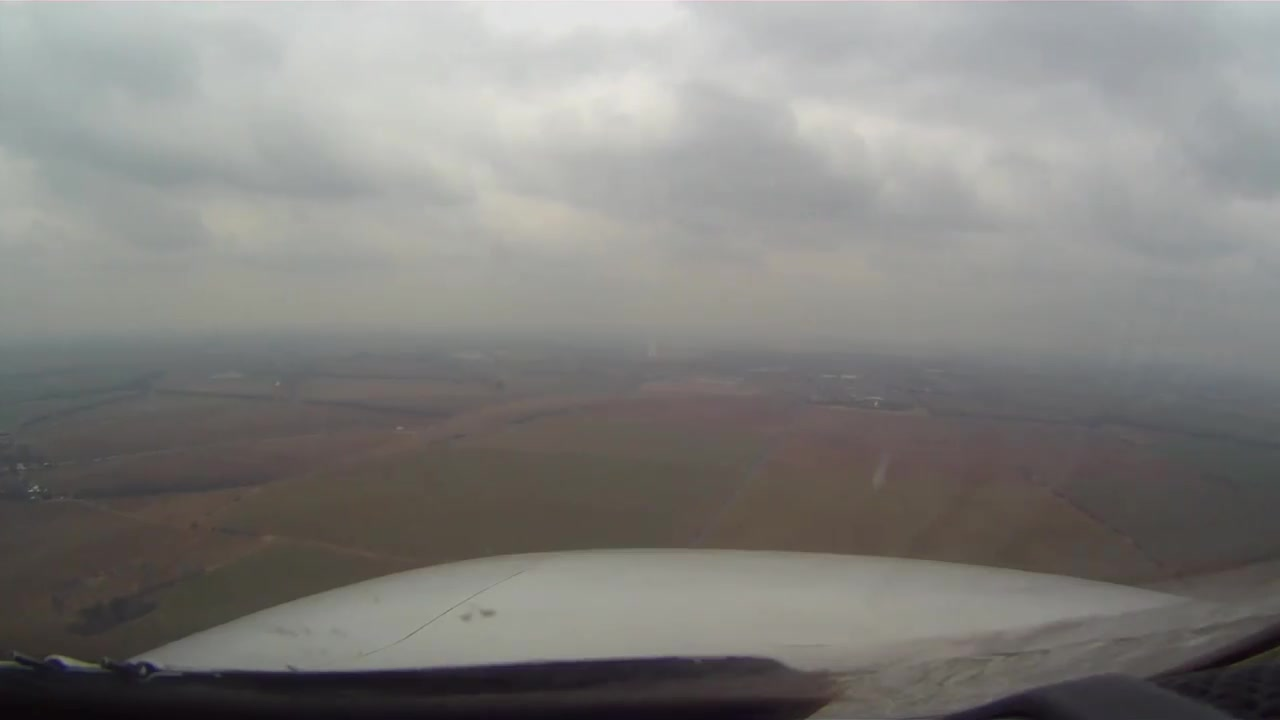runway: (646, 335, 662, 359)
